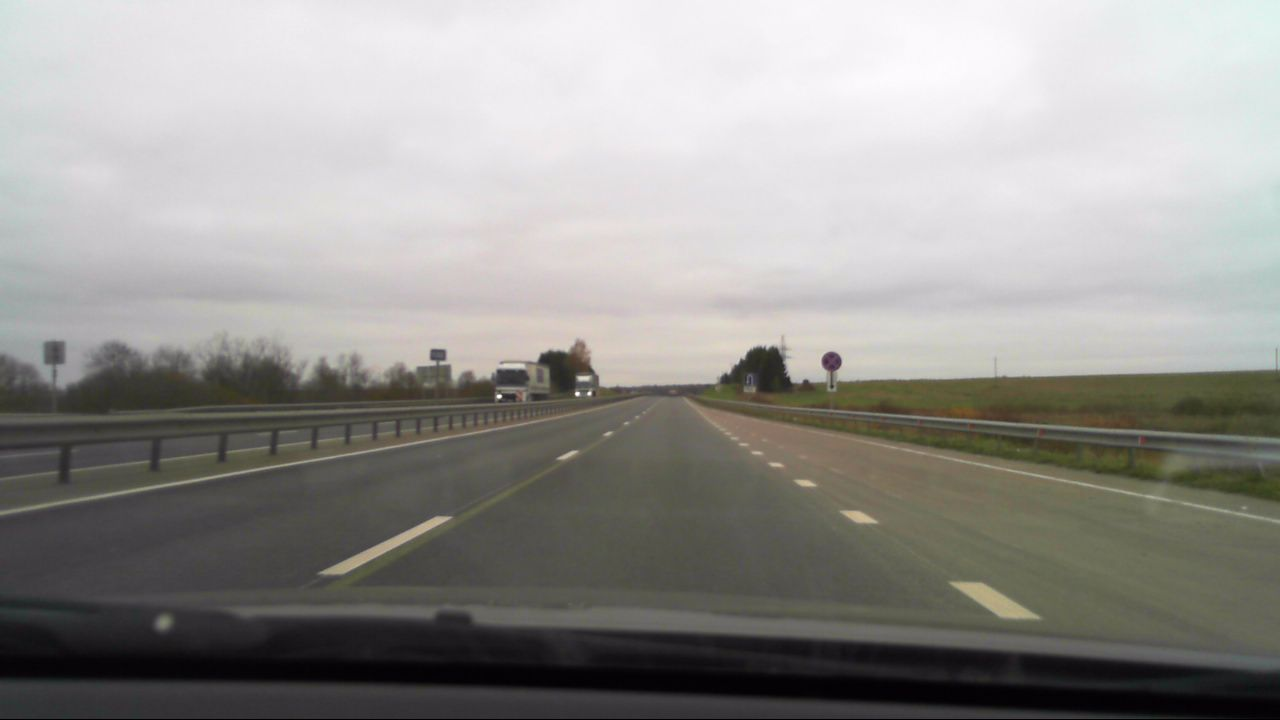No Parking: (818, 348, 844, 369)
U-turn: (745, 373, 756, 386)
